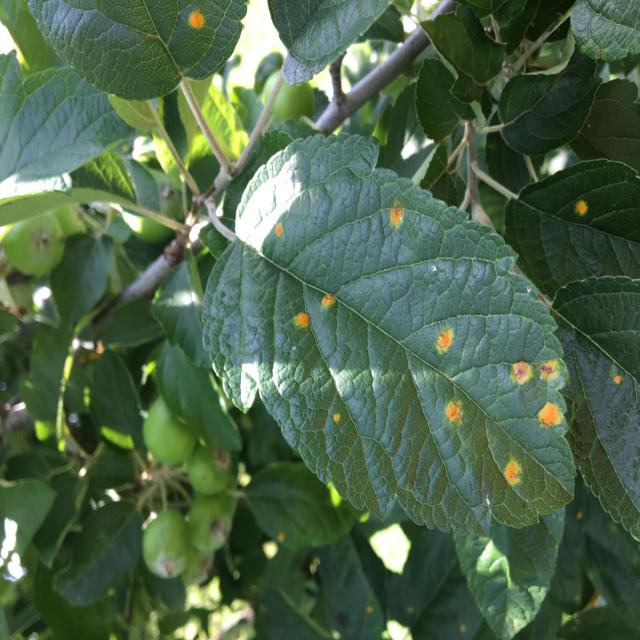Rust: (498, 453, 531, 494), (427, 326, 458, 362), (382, 200, 409, 237), (534, 402, 564, 434), (442, 391, 465, 431), (288, 305, 314, 336), (538, 354, 562, 386), (511, 358, 532, 392), (184, 7, 206, 35), (269, 216, 289, 246), (319, 288, 341, 315), (572, 197, 593, 218), (610, 368, 626, 391), (329, 410, 345, 430), (94, 335, 107, 356)
